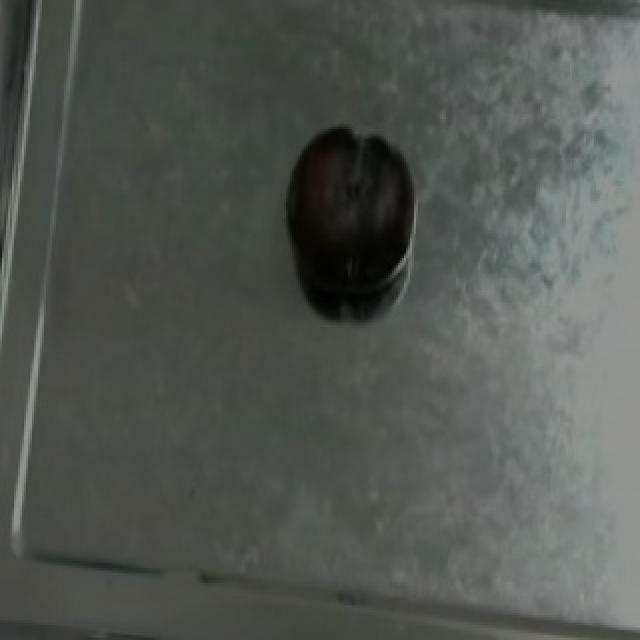Fruit: (278, 121, 418, 308)
